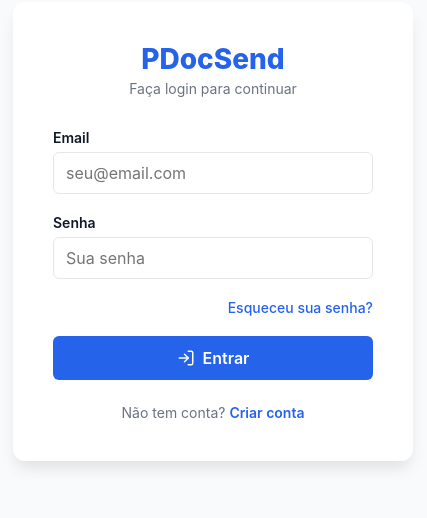
Login › deve mostrar erro quando login falha
The width and height of the screenshot is (427, 518).
Type "test@test.com" into the field with placeholder "seu@email.com" at [213, 172], box [53,152,373,194]
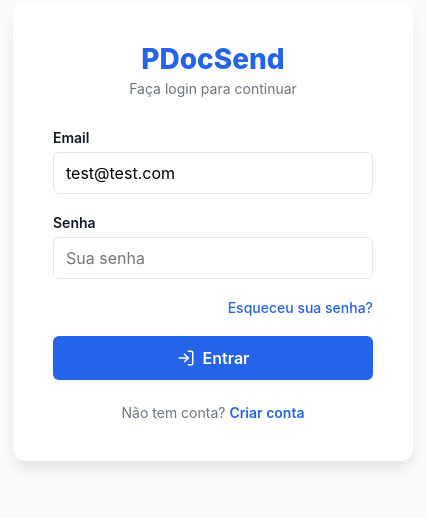
Type "wrong" into the password field with placeholder "Sua senha" at [213, 258], box [53,236,373,278]
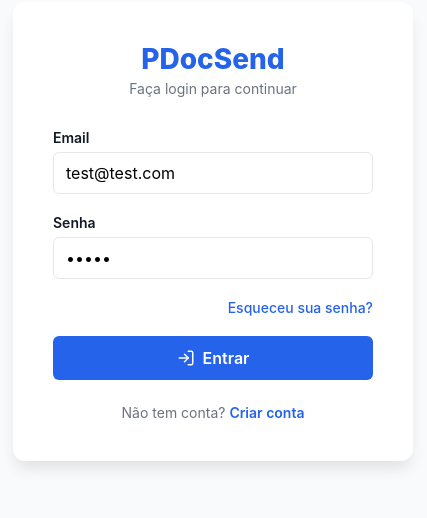
Click the button "Entrar" at [213, 358], box [53,336,373,380]
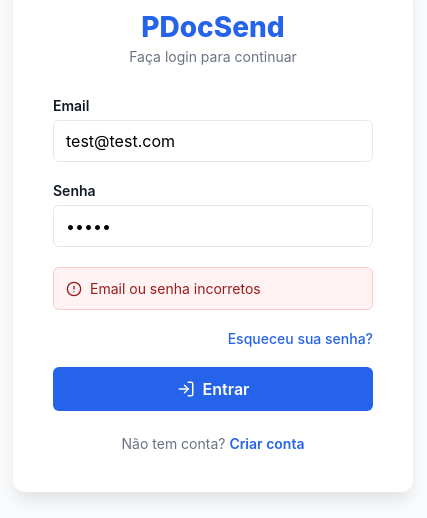
Expected: the text "Email ou senha incorretos" is shown, [53,267,373,310]
